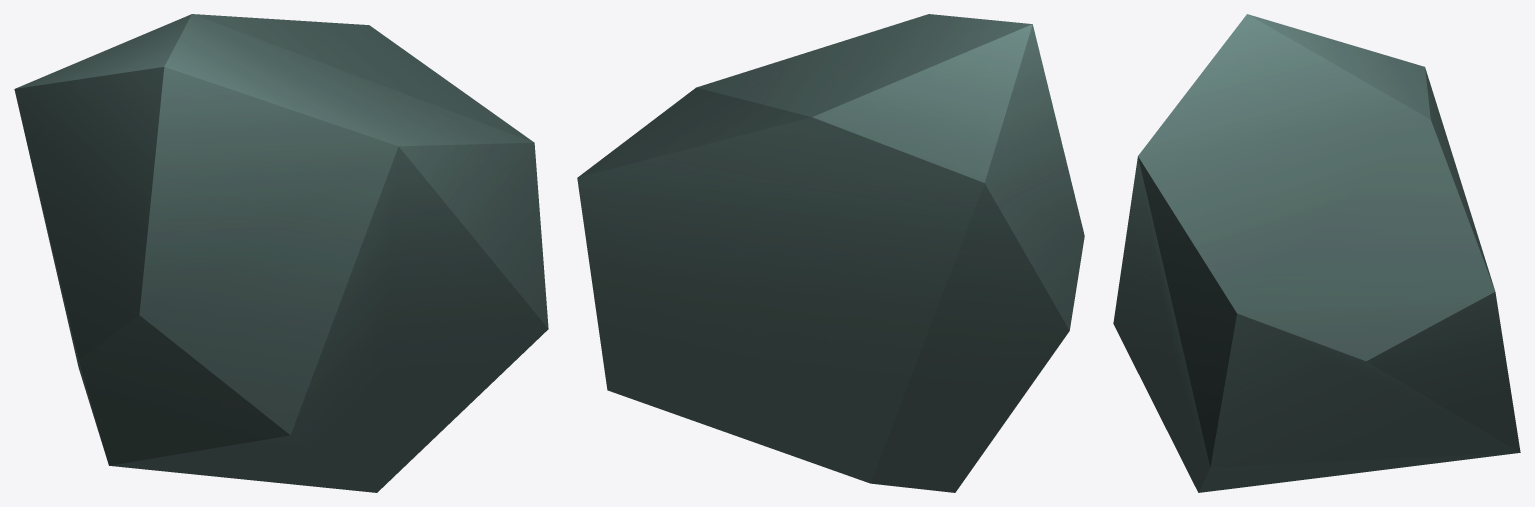
Rendered from FBX_Rocks_02.fbx.
3 renders of one model, left to right at view 1: azimuth 30°, elevation 25°; view 2: azimuth 150°, elevation 25°; view 3: azimuth 270°, elevation 25°, orthographic. The views are drawn at different scales.
Visible parts, largest first — view 1: M_Rock_02; view 2: M_Rock_02; view 3: M_Rock_02.
Boxes of the visible parts, <box> form: M_Rock_02: <box>14,14,548,492</box>; M_Rock_02: <box>577,14,1084,492</box>; M_Rock_02: <box>1113,14,1520,492</box>.
Bounding box in the file's own units: 0.5987 × 0.6064 × 0.5589.
